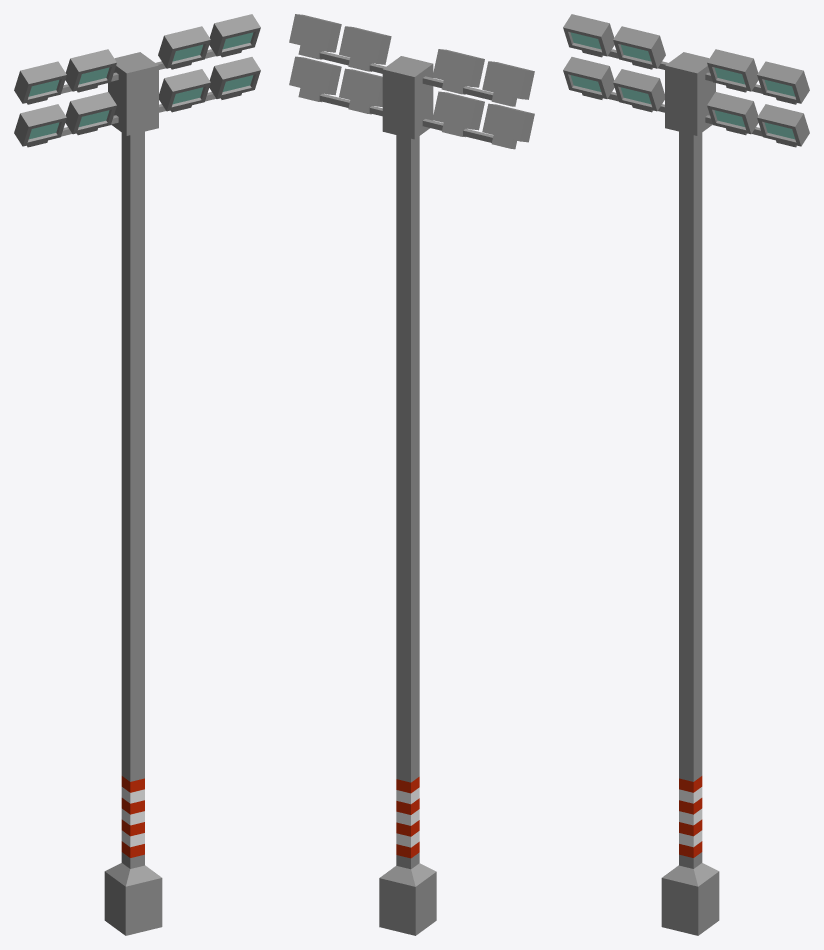
The model's file is Spotlight_1.fbx.
3 renders of one model, left to right at view 1: azimuth 30°, elevation 25°; view 2: azimuth 150°, elevation 25°; view 3: azimuth 330°, elevation 25°, orthographic.
Visible parts, largest first — view 1: Spotlight_1; view 2: Spotlight_1; view 3: Spotlight_1.
Boxes of the visible parts, bbox=[...] form: Spotlight_1: bbox=[14, 14, 260, 935]; Spotlight_1: bbox=[289, 14, 534, 935]; Spotlight_1: bbox=[563, 14, 809, 935].
Bounding box in the file's own units: 389 × 1413 × 63.64.
Materials: 1 (1 with a texture image).
